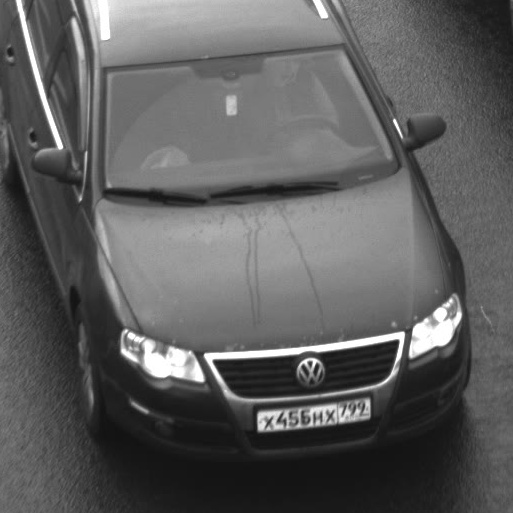plate: (247, 385, 381, 440)
